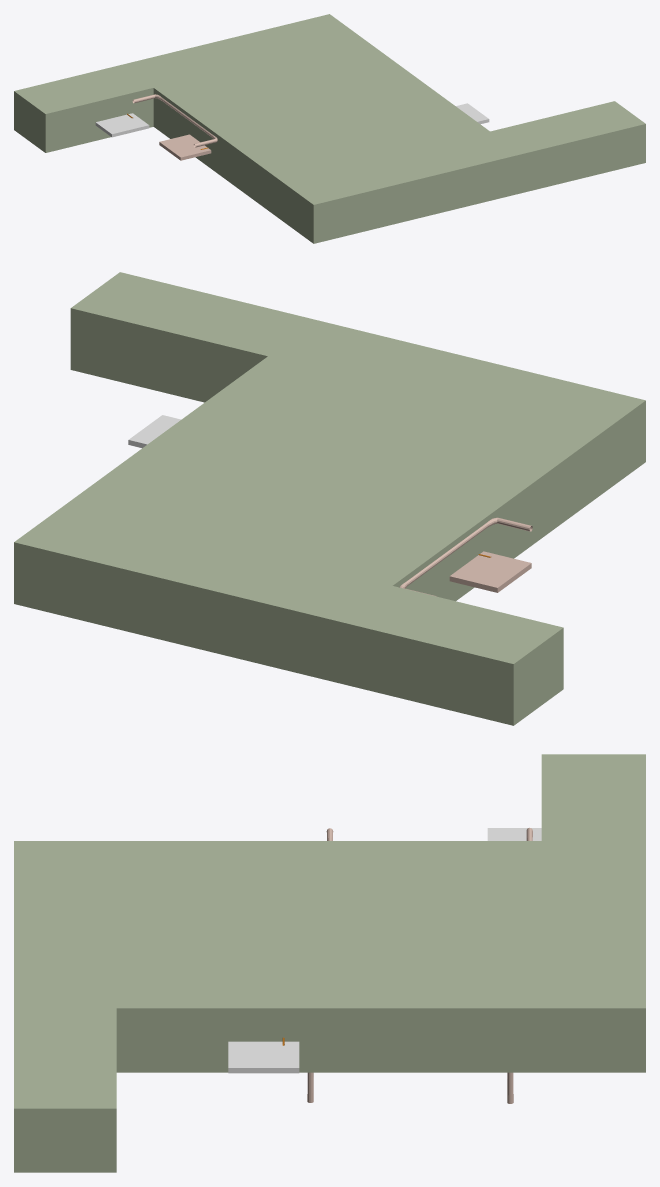
File: labyrinth room other.fbx
3 views of the same model, one above another, from view 1: azimuth 30°, elevation 25°; view 2: azimuth 150°, elevation 25°; view 3: azimuth 270°, elevation 25° (orthographic). The views are drawn at different scales.
Visible parts, largest first — view 1: Cube.005, Cube, Cube.002, Cube.004, Plane.002; view 2: Cube.005, Cube, Cube.002, Plane.002, Cube.006; view 3: Cube.005, Cube, Cube.006, Cube.004.
Boxes of the visible parts, x1,y1,x2,y2 form: Cube.005: (14, 14, 645, 204); Cube: (14, 88, 645, 243); Cube.002: (159, 134, 211, 160); Cube.004: (95, 113, 149, 137); Plane.002: (132, 94, 217, 147); Cube.005: (14, 272, 645, 663); Cube: (14, 308, 645, 725); Cube.002: (449, 551, 531, 592); Plane.002: (399, 517, 532, 596); Cube.006: (128, 415, 181, 448); Cube.005: (14, 754, 645, 1108); Cube: (14, 1008, 645, 1172); Cube.006: (228, 1041, 299, 1073); Cube.004: (487, 828, 541, 840).
Size of the model in its own units: 2364 by 304 by 1782.
